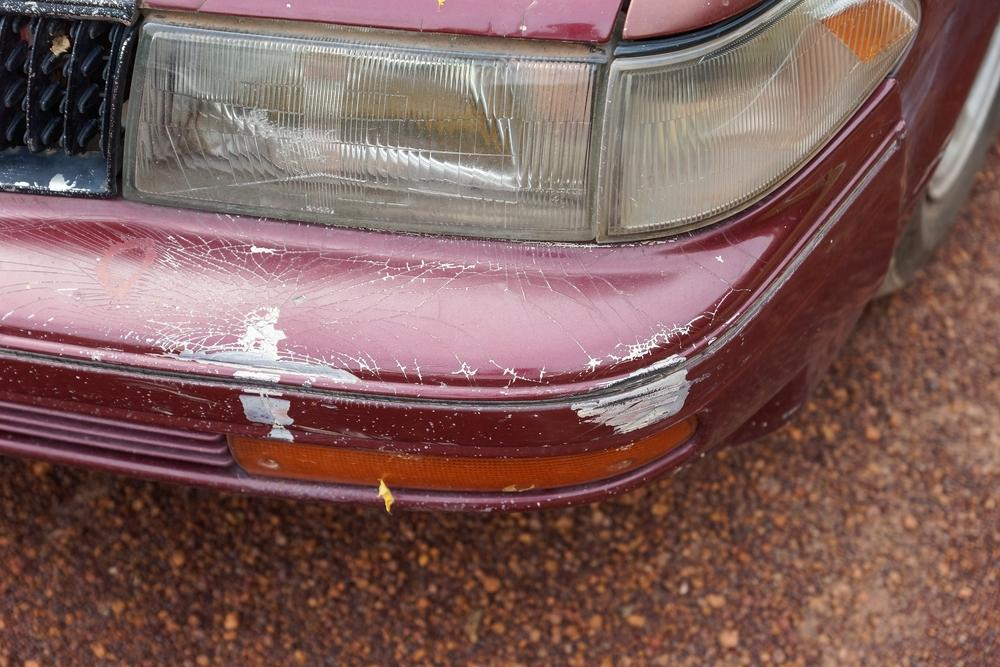scratch: (183, 310, 357, 446), (558, 348, 690, 440)
